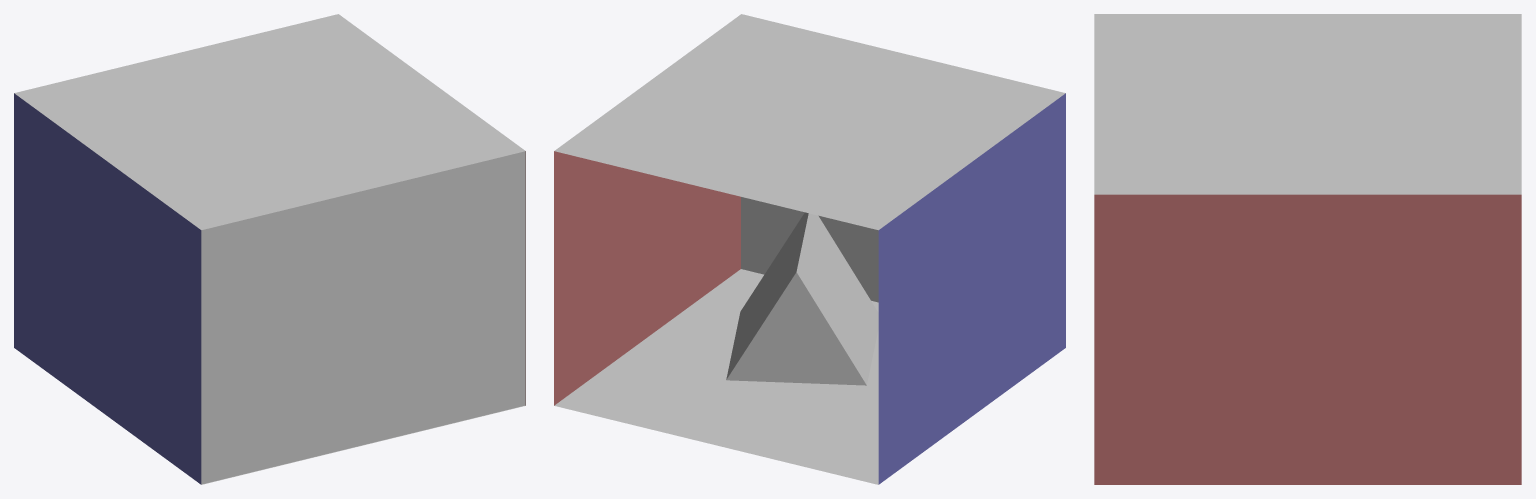
The model's file is CBPrism_angle.dae.
3 views of the same model, side by side, from view 1: azimuth 30°, elevation 25°; view 2: azimuth 150°, elevation 25°; view 3: azimuth 270°, elevation 25° (orthographic). The views are drawn at different scales.
Parts seen in each view (by area): view 1: backWall, ceiling, rightWall; view 2: ceiling, rightWall, leftWall, floor, Cylinder, backWall; view 3: leftWall, ceiling.
Boxes of the visible parts, <box> form: backWall: <box>201,151,525,484</box>; ceiling: <box>14,14,525,230</box>; rightWall: <box>14,93,201,484</box>; ceiling: <box>554,14,1065,230</box>; rightWall: <box>878,93,1065,484</box>; leftWall: <box>554,151,740,405</box>; floor: <box>554,269,878,484</box>; Cylinder: <box>726,212,878,385</box>; backWall: <box>741,197,878,302</box>; leftWall: <box>1094,194,1521,484</box>; ceiling: <box>1094,14,1521,194</box>.
Size of the model in its own units: 2 by 2 by 1.5.
